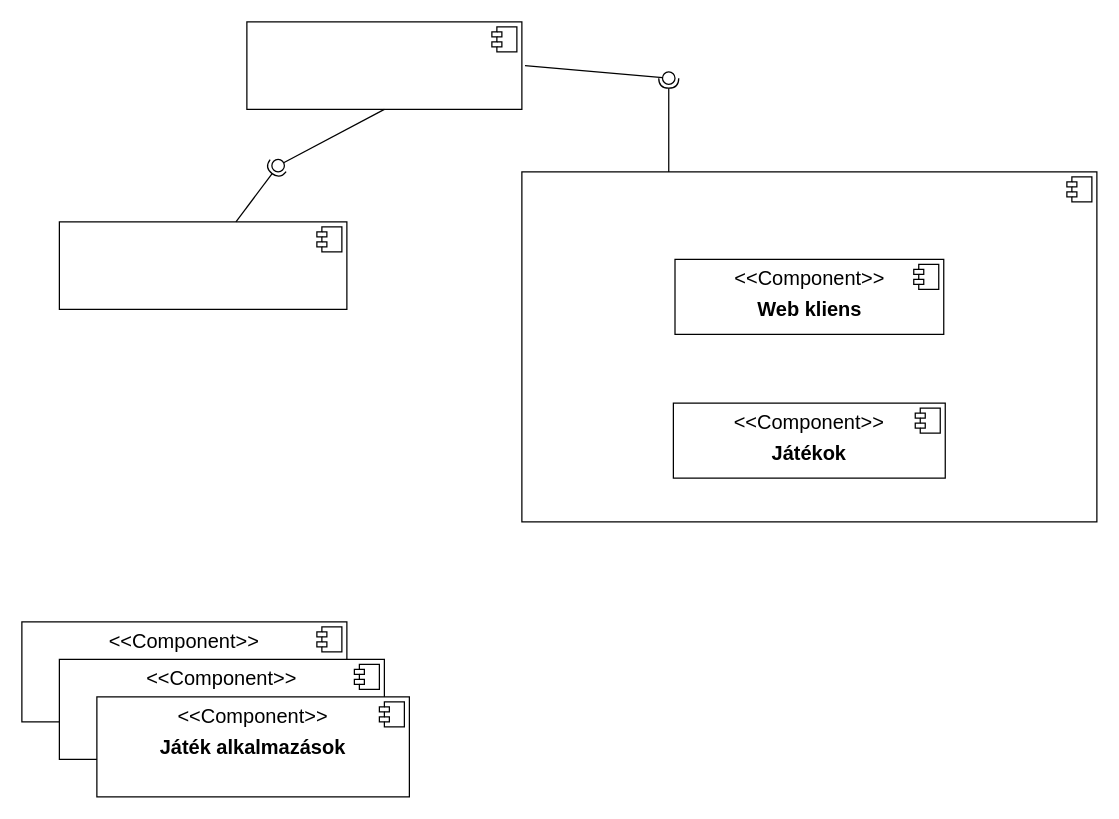
The diagram is 1119 pixels wide and 819 high, and some of its shapes have lost their labels. The shapes that lost their labels are listed below. From the top down, each one's box as (x1, y1, x2, y2) in pixels, then its label:
(246, 21, 522, 109): <<Component>> Autentikációs szerver
(58, 221, 347, 309): <<Component>> REST API
(521, 171, 1097, 522): <<Component>> Kliens alkalmazás
